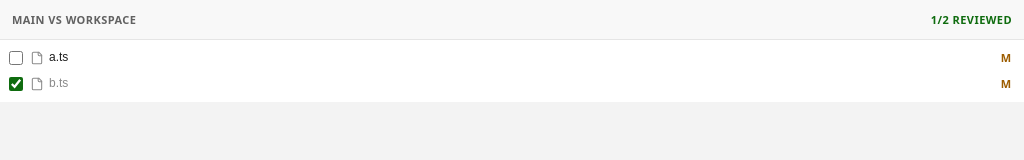
Test case: DiffTreePane › toggles a review checkbox and reports the new state with the review progress
Expected: the text "1/2 reviewed" is shown, [931,12,1012,27]
Click the checkbox named "Mark a.ts as reviewed": (16, 58) [9,51,23,65]
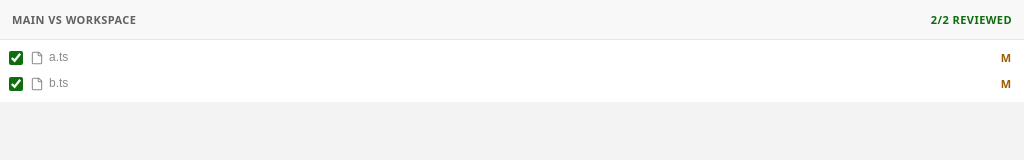
Expected: the checkbox named "Mark a.ts as reviewed" is checked, [9,51,23,65]
Expected: the text "2/2 reviewed" is shown, [931,12,1012,27]
